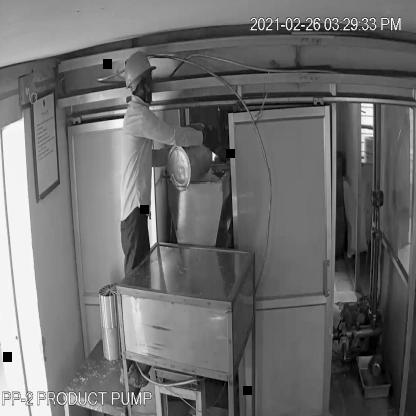helmet: (121, 50, 158, 94)
